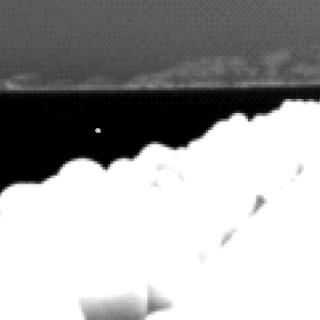Target: (94, 127, 101, 134)
